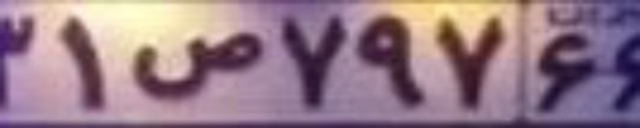1: (58, 17, 105, 110)
3: (0, 14, 39, 110)
6: (532, 34, 595, 112), (607, 32, 638, 113)
7: (274, 13, 349, 108), (434, 14, 506, 109)
9: (356, 15, 426, 108)
saat: (129, 29, 262, 99)
